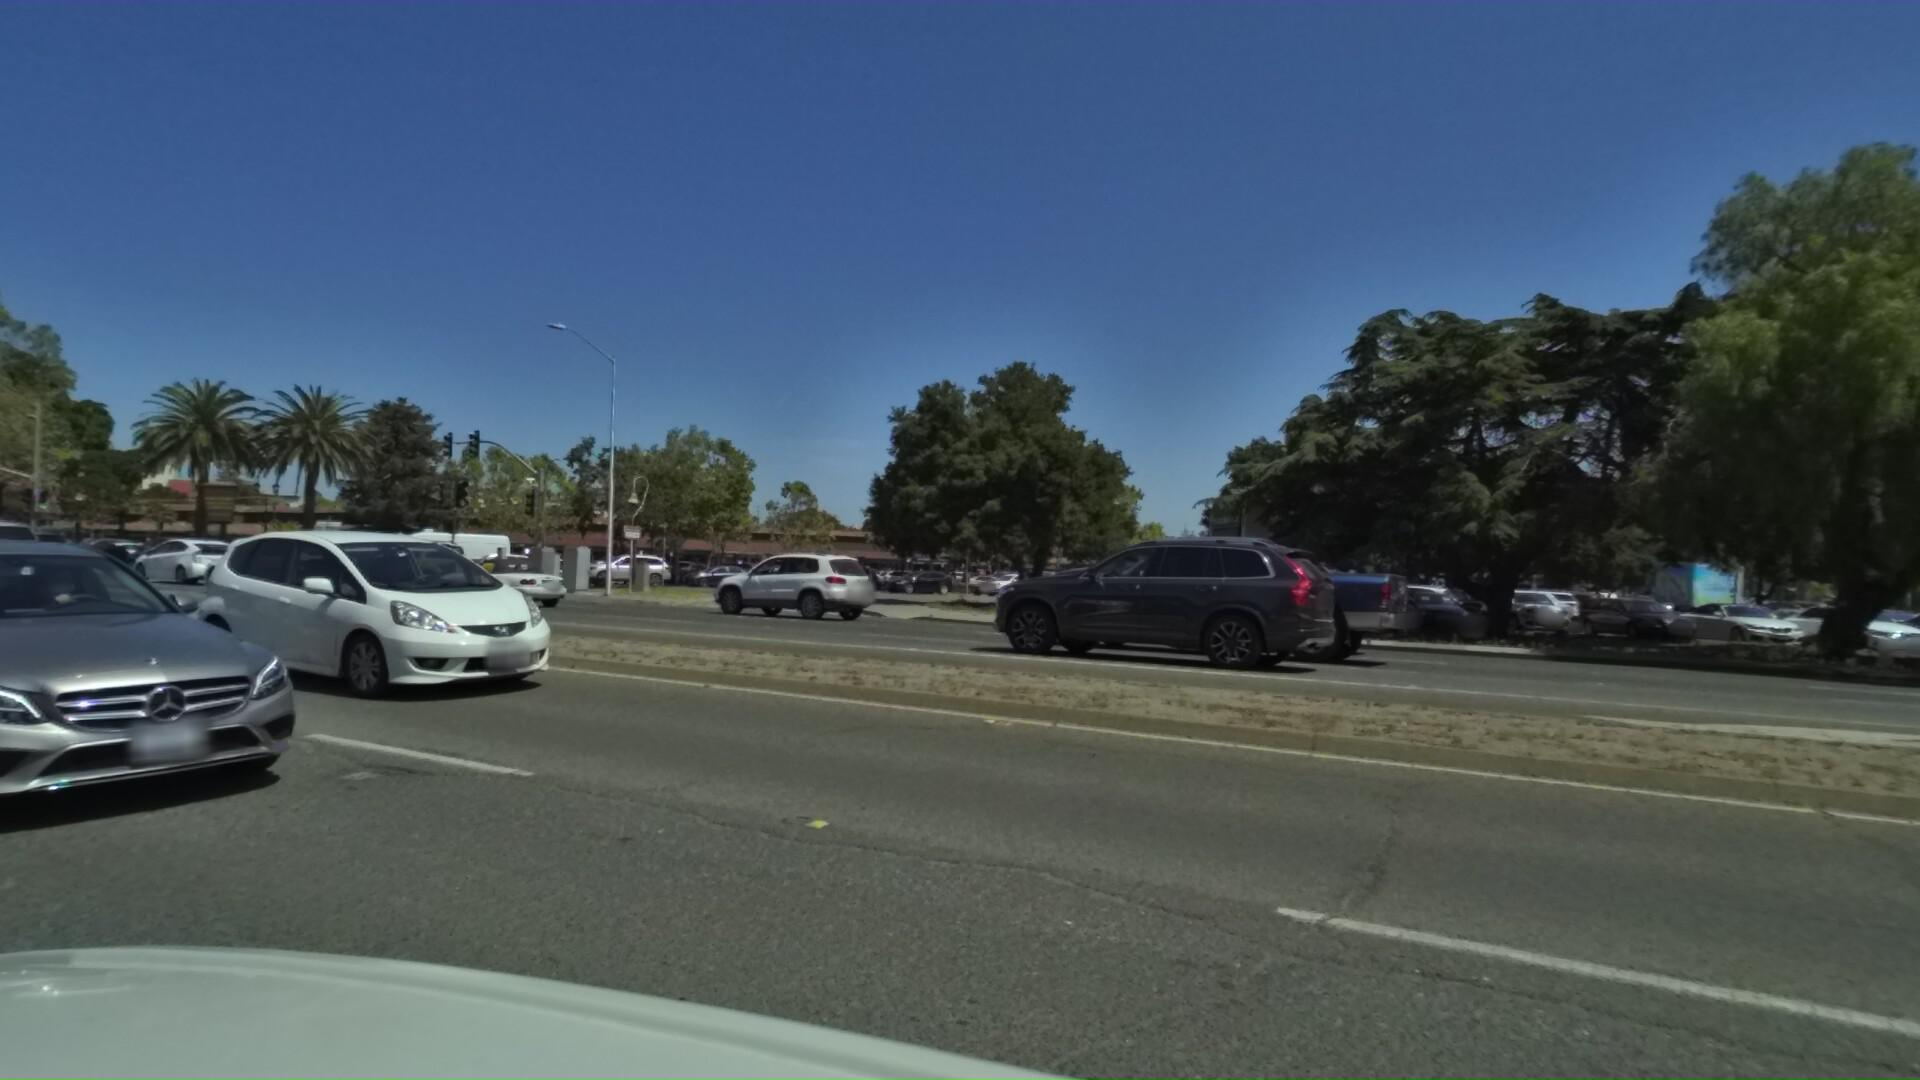car: (167, 502, 607, 700), (918, 529, 1275, 671), (982, 522, 1338, 663), (1069, 554, 1344, 651), (678, 542, 858, 618), (173, 531, 353, 597), (392, 545, 560, 608), (353, 522, 512, 585), (342, 534, 489, 597), (119, 530, 253, 582), (430, 549, 535, 584), (568, 550, 663, 585), (674, 563, 746, 588), (971, 571, 1034, 593), (872, 564, 931, 585), (953, 566, 1009, 587)
